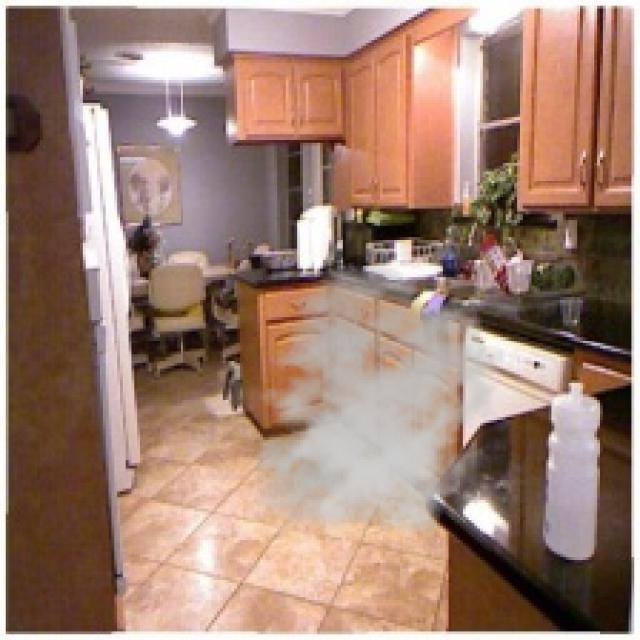Smoke: (240, 263, 506, 546)
